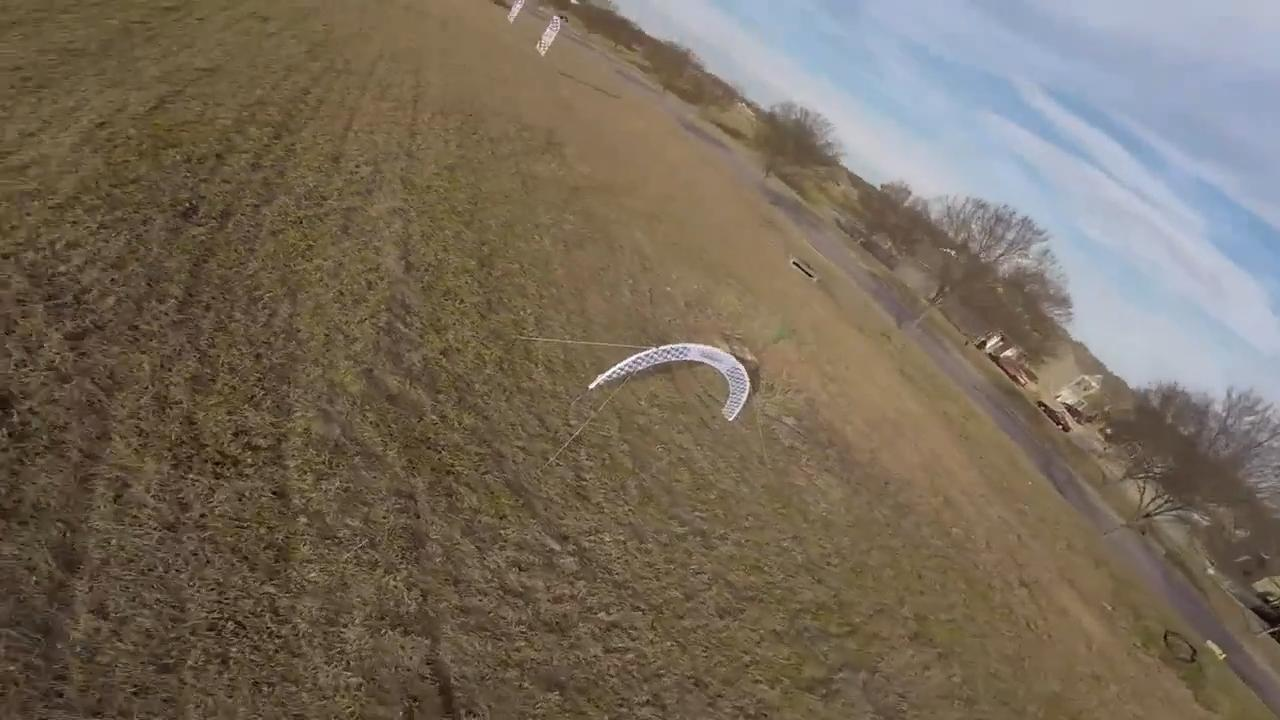gate: (588, 342, 751, 423)
